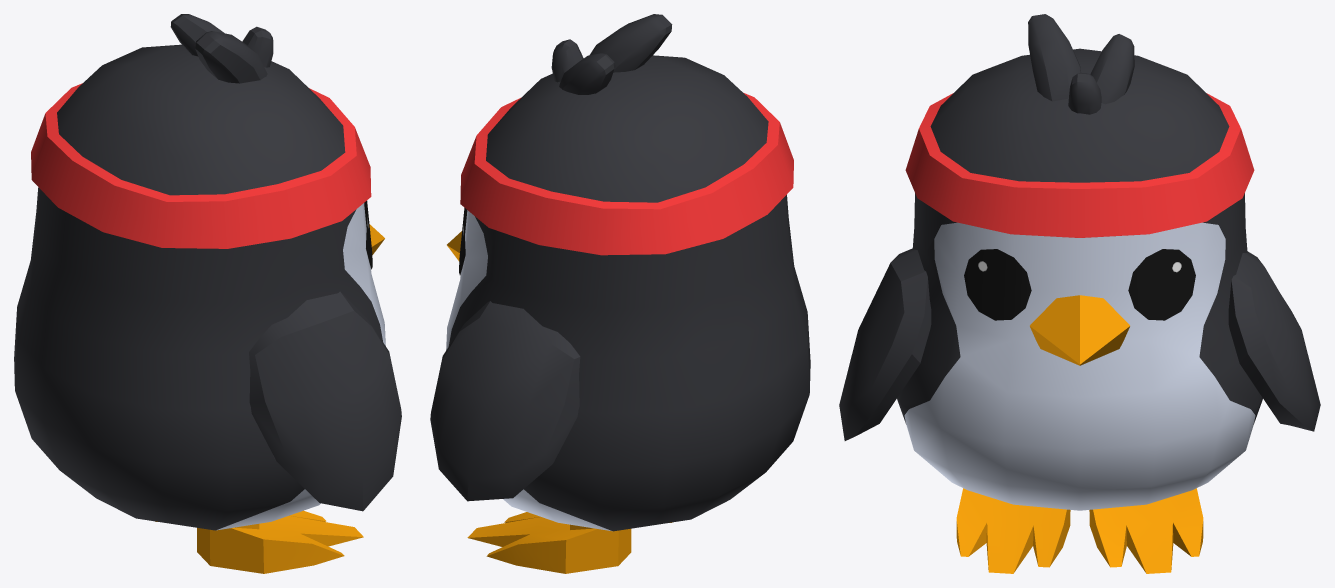
The model's file is peng.fbx.
3 renders of one model, left to right at view 1: azimuth 30°, elevation 25°; view 2: azimuth 150°, elevation 25°; view 3: azimuth 270°, elevation 25°, orthographic. The views are drawn at different scales.
Parts seen in each view (by area): view 1: peng; view 2: peng; view 3: peng.
Part boxes in pixels (box(x1,y1,x2,y2)): peng: box(14, 14, 401, 573); peng: box(430, 14, 810, 573); peng: box(839, 14, 1320, 573).
Bounding box in the file's own units: 276 × 396 × 347.
Materials: 1 (1 with a texture image).
